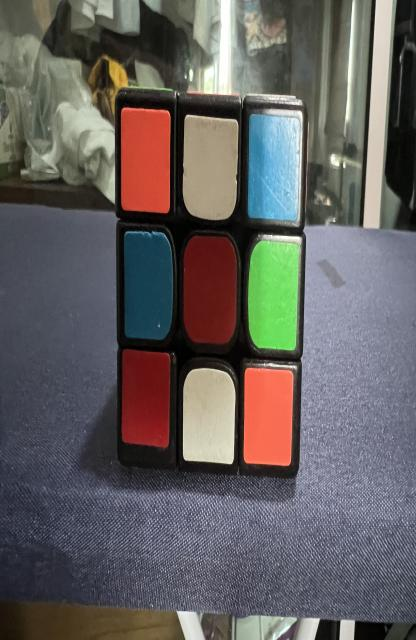Blue: (248, 113, 301, 222), (124, 232, 173, 340)
Green: (248, 240, 299, 350)
Orange: (121, 107, 171, 213), (244, 367, 293, 467)
Red: (184, 235, 237, 345), (122, 350, 171, 448)
White: (183, 115, 239, 220), (183, 368, 236, 465)
